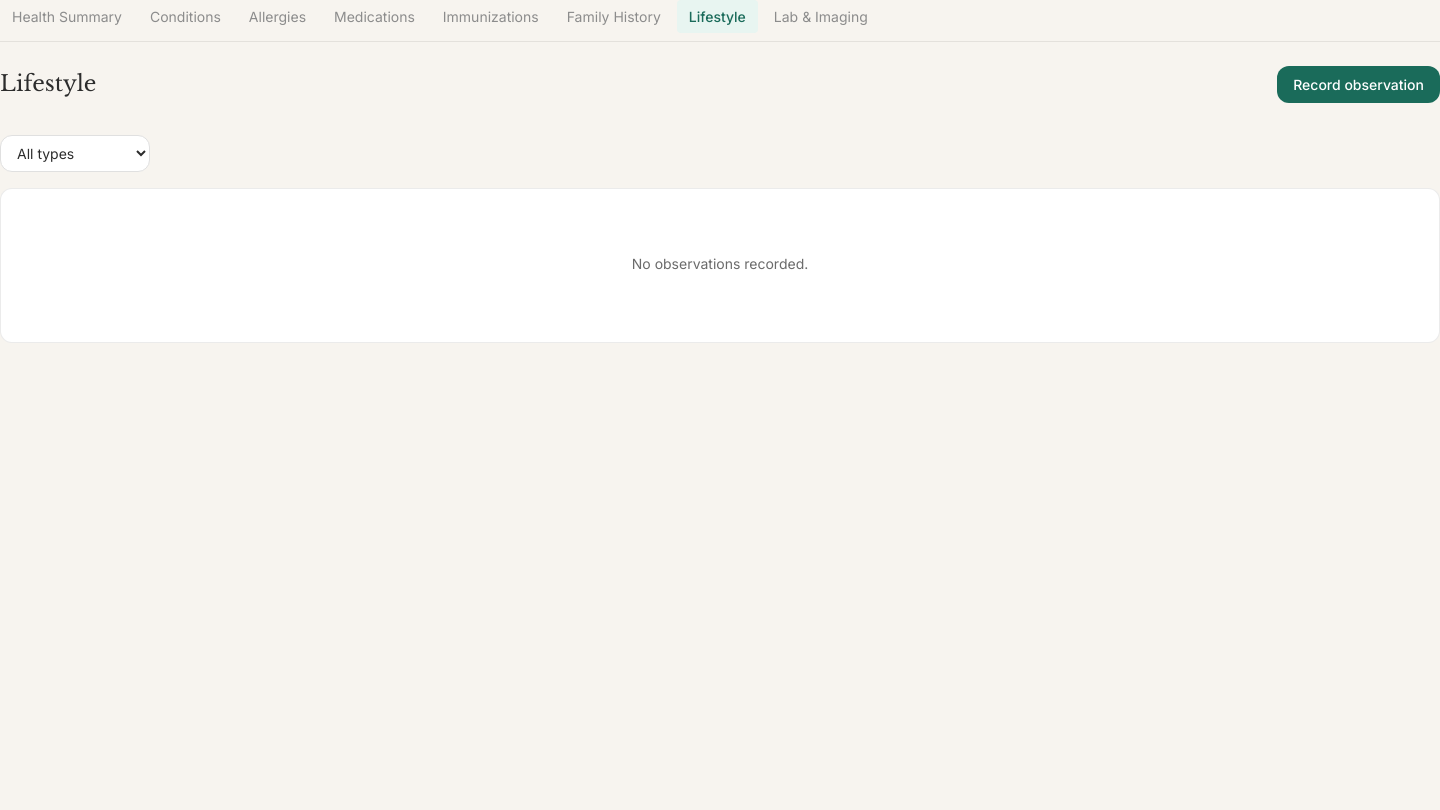
Test: LifestylePage › opens type-adaptive form with numeric input for sleep
Check: the text "No observations recorded." is shown, box [632, 255, 808, 272]
Click the button "Record observation" at [1359, 84], box [1277, 66, 1439, 103]
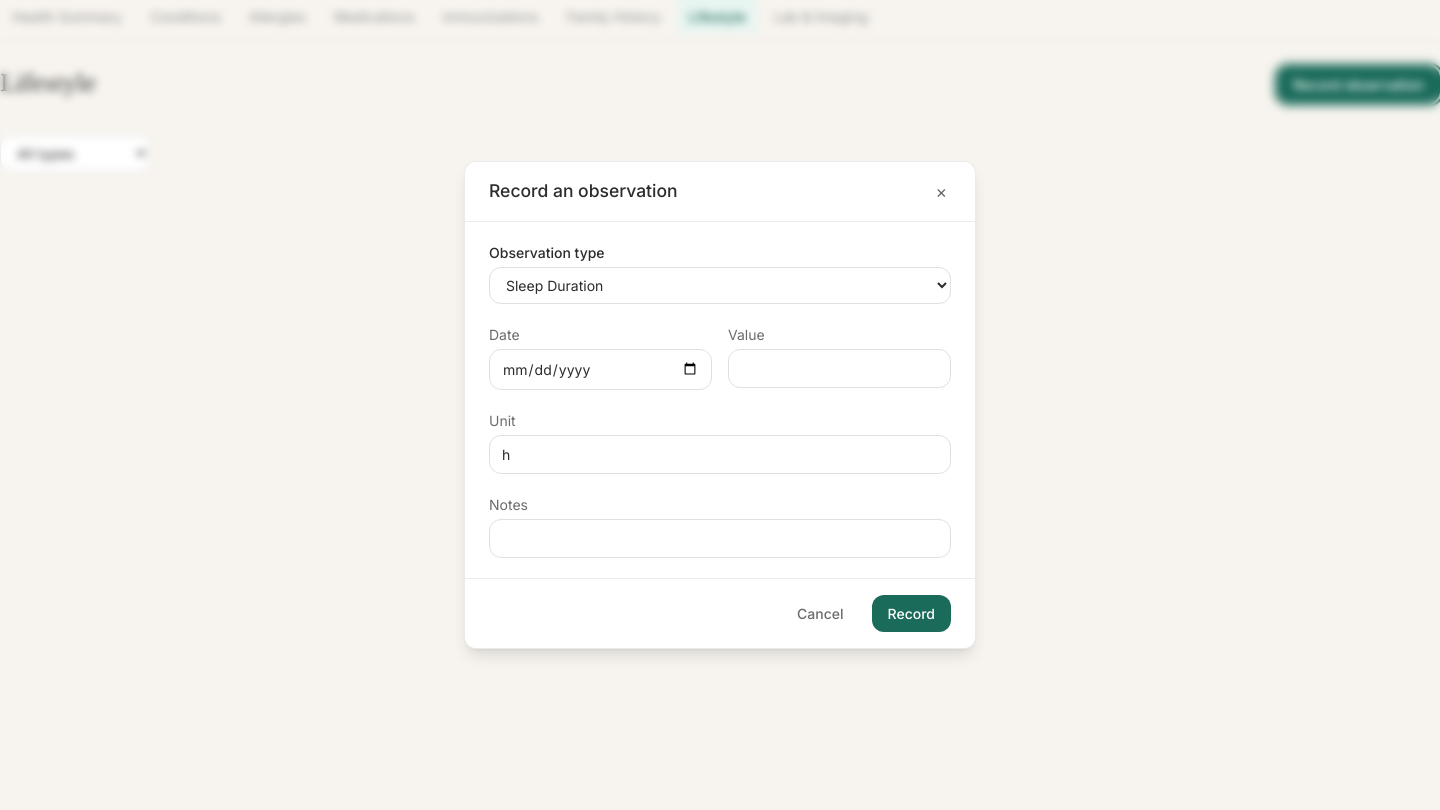
Check: the number field labelled "Value" is shown, box [728, 349, 951, 388]
Check: the heading "Record an observation" is shown, box [489, 178, 678, 205]
